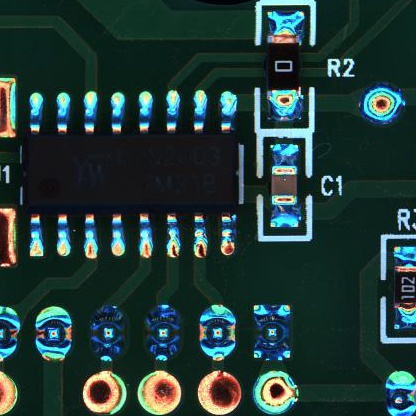spot: (250, 302, 292, 361), (199, 303, 236, 361), (35, 305, 71, 364), (360, 84, 406, 128), (145, 305, 179, 361), (90, 304, 123, 359), (385, 371, 416, 414)
